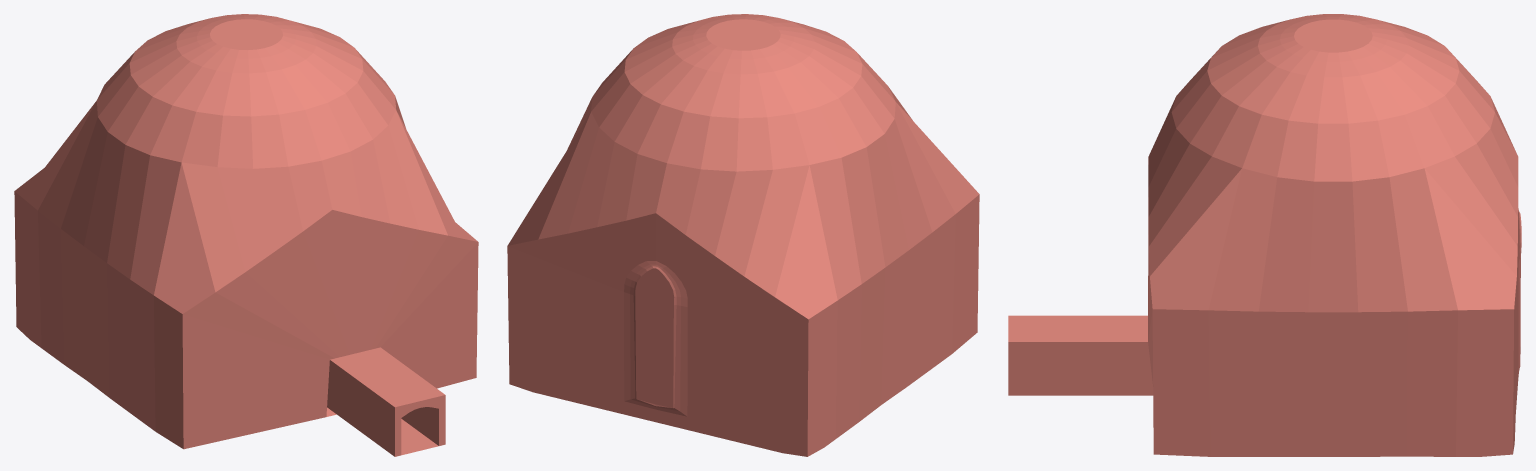
File: TestLevelDesign.fbx
3 views of the same model, side by side, from view 1: azimuth 30°, elevation 25°; view 2: azimuth 150°, elevation 25°; view 3: azimuth 270°, elevation 25° (orthographic). The views are drawn at different scales.
Visible parts, largest first — view 1: Anvil.Box.002, Anvil.Box.001; view 2: Anvil.Box.002; view 3: Anvil.Box.002, Anvil.Box.001.
Part boxes in pixels (left/top/right/bottom): Anvil.Box.002: left=14, top=14, right=478, bottom=449; Anvil.Box.001: left=327, top=347, right=445, bottom=456; Anvil.Box.002: left=507, top=14, right=979, bottom=456; Anvil.Box.002: left=1148, top=14, right=1521, bottom=456; Anvil.Box.001: left=1008, top=315, right=1153, bottom=395.
Size of the model in its own units: 1355 by 1409 by 1855.
